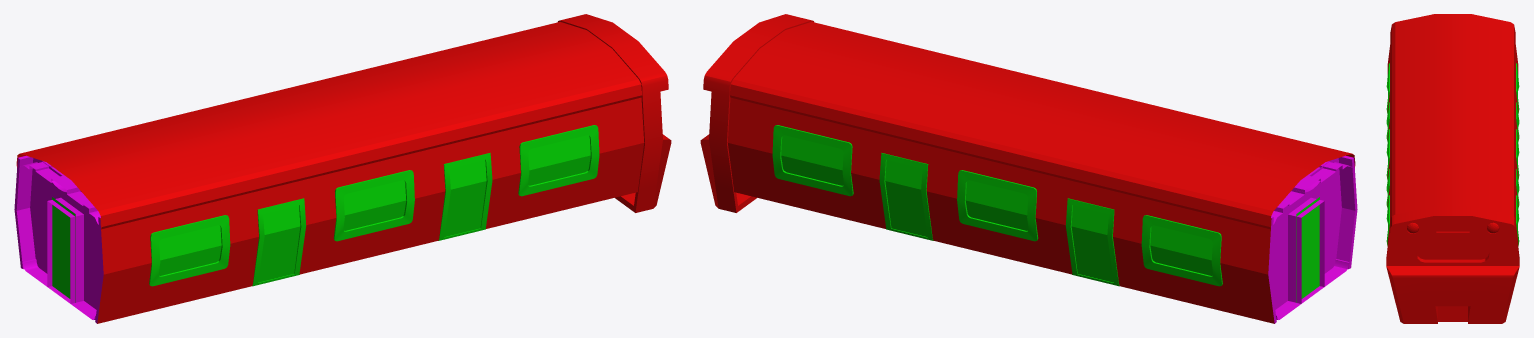
The model's file is train.fbx.
The picture shows the model from 3 angles, left to right: view 1: azimuth 30°, elevation 25°; view 2: azimuth 150°, elevation 25°; view 3: azimuth 270°, elevation 25°; orthographic projection. The views are drawn at different scales.
Visible parts, largest first — view 1: pSphere4; view 2: pSphere4; view 3: pSphere4.
Part boxes in pixels (bbox=[...]): pSphere4: bbox=[14, 14, 671, 323]; pSphere4: bbox=[700, 14, 1357, 323]; pSphere4: bbox=[1386, 14, 1519, 323].
Size of the model in its own units: 5567 by 1383 by 1537.
